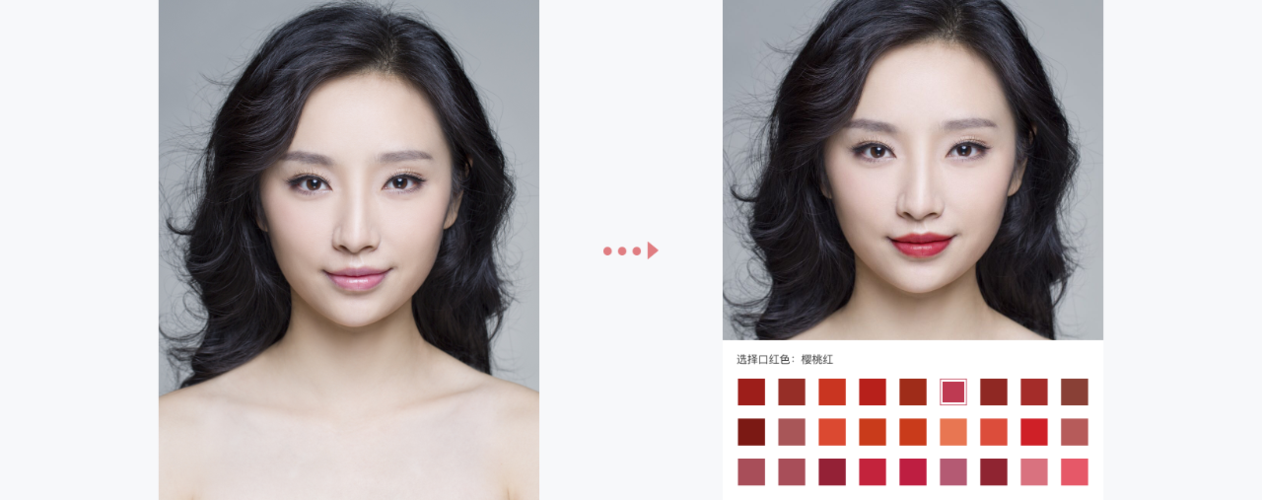nomask: (243, 32, 476, 326)
